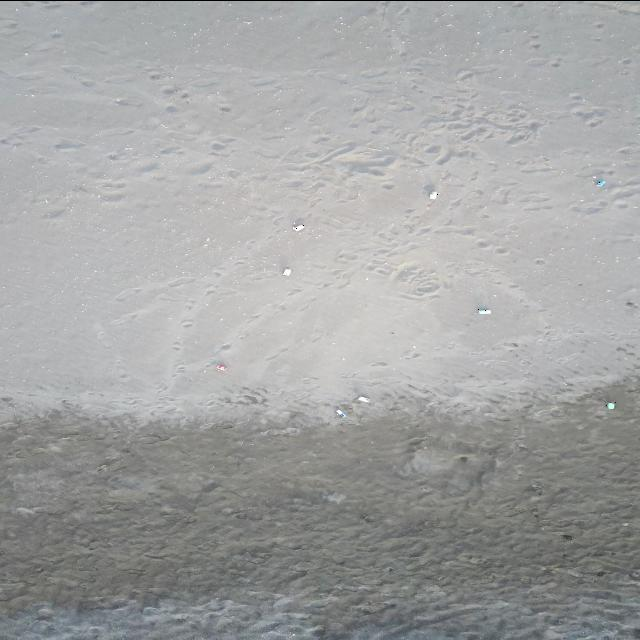Garbage: (356, 395, 369, 403), (593, 178, 604, 187), (281, 267, 291, 276), (476, 307, 491, 313), (216, 363, 227, 371), (335, 408, 346, 416), (292, 223, 303, 230), (428, 191, 437, 199), (607, 402, 615, 408)
